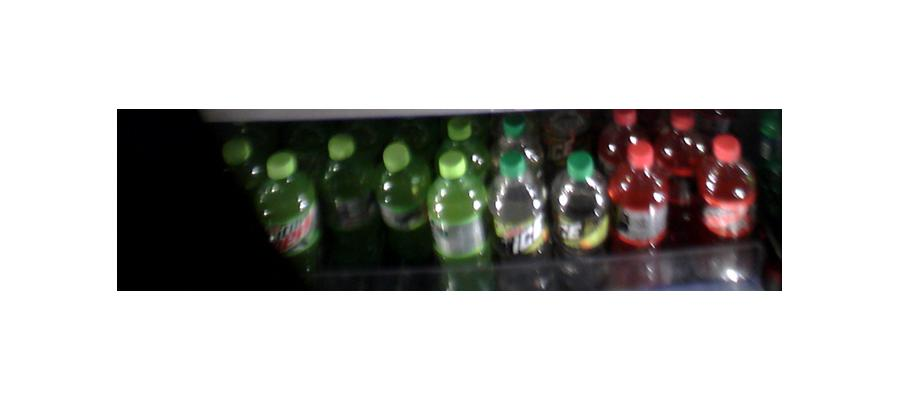bottle: (492, 118, 547, 292), (433, 145, 490, 291), (321, 130, 377, 271), (554, 151, 609, 287), (612, 132, 662, 281), (255, 153, 313, 270), (381, 143, 433, 269), (703, 135, 757, 250)
